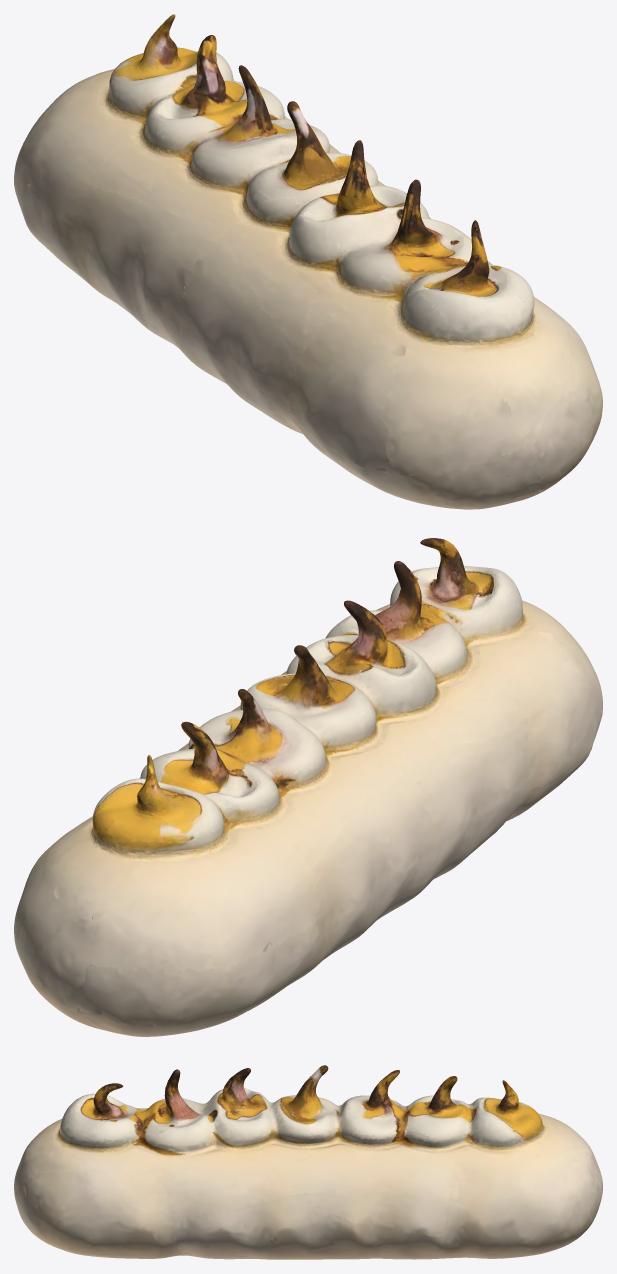
Rendered from 06_8_yellowdot_eclair6_sculpture.glb.
3 views of the same model, one above another, from view 1: azimuth 30°, elevation 25°; view 2: azimuth 150°, elevation 25°; view 3: azimuth 270°, elevation 25° (orthographic). The views are drawn at different scales.
Parts seen in each view (by area): view 1: exlair6.001; view 2: exlair6.001; view 3: exlair6.001.
Boxes of the visible parts, x1=… form: exlair6.001: x1=14, y1=14, x2=602, y2=509; exlair6.001: x1=14, y1=538, x2=602, y2=1036; exlair6.001: x1=14, y1=1065, x2=602, y2=1259.
Size of the model in its own units: 0.0426 by 0.042 by 0.125.
1 material, 1 textured.
